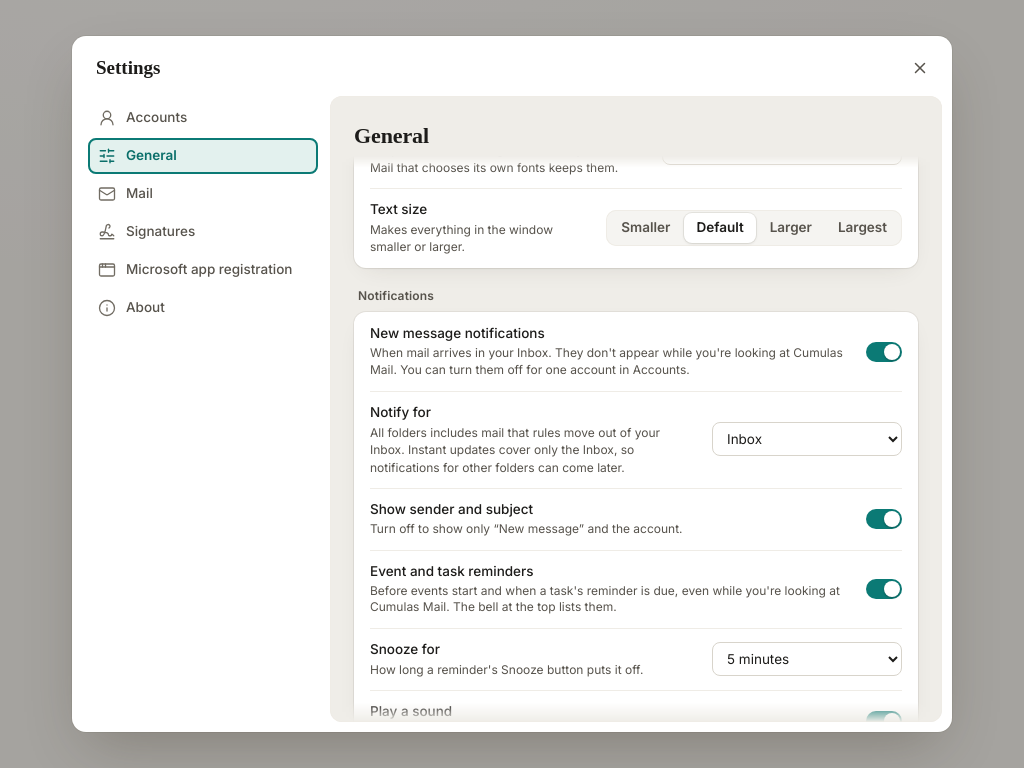
it: Notifications › notifies for the Inbox or all folders, which needs notifications on
The image size is (1024, 768).
(page scrolled)
Select "All folders" in the dropdown labelled "Notify for" at (807, 439), box [712,422,902,456]
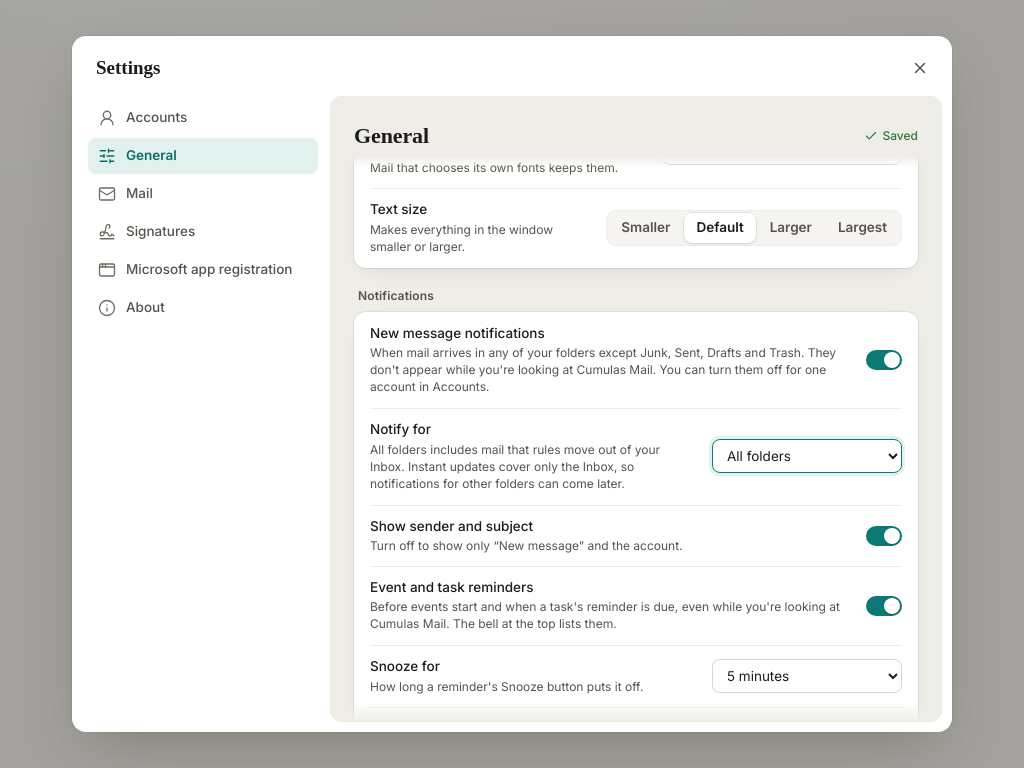
Click the switch labelled "New message notifications" at (457, 333), box [370,325,545,341]
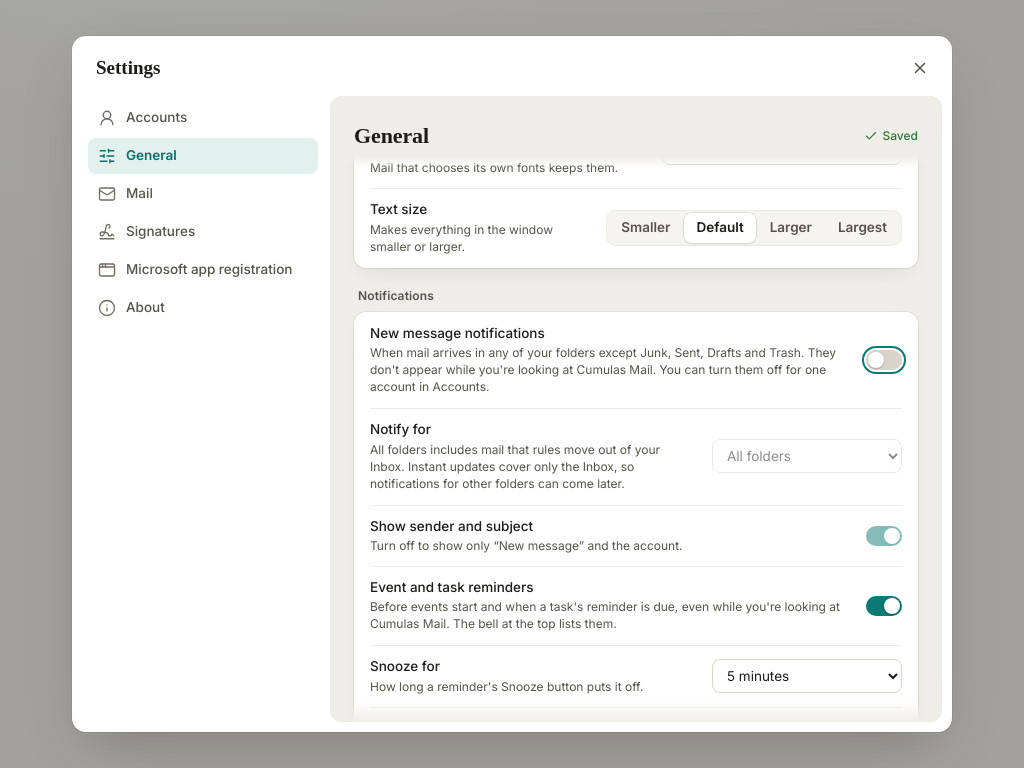
Expected: the dropdown labelled "Notify for" is disabled, [712,439,902,473]
